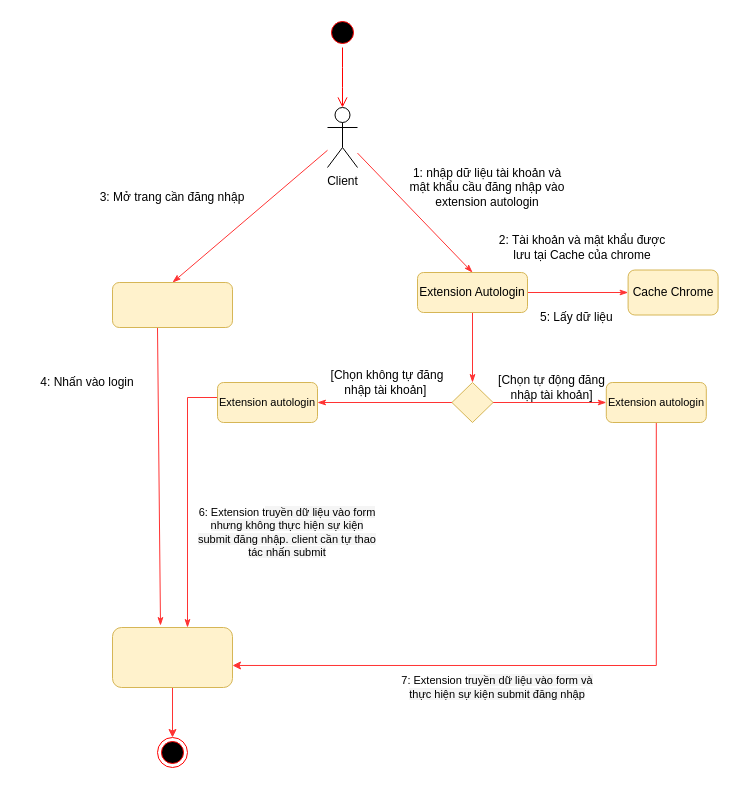
Image size: 736x785. Some labels were removed from this diagram. The shapes that lost their labels are listed below. From the top down, each one's centre as x and y in pixels, then its label:
At [172,305]: "Giao diện đăng nhập vd: el.tdc.edu.vn".
At [172,657]: "Login".
